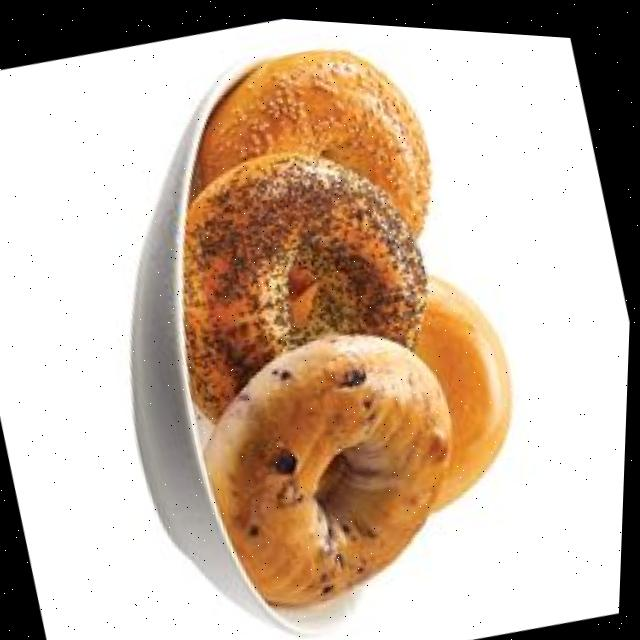Bagel: (185, 149, 427, 416), (208, 334, 455, 595), (194, 46, 430, 229)
